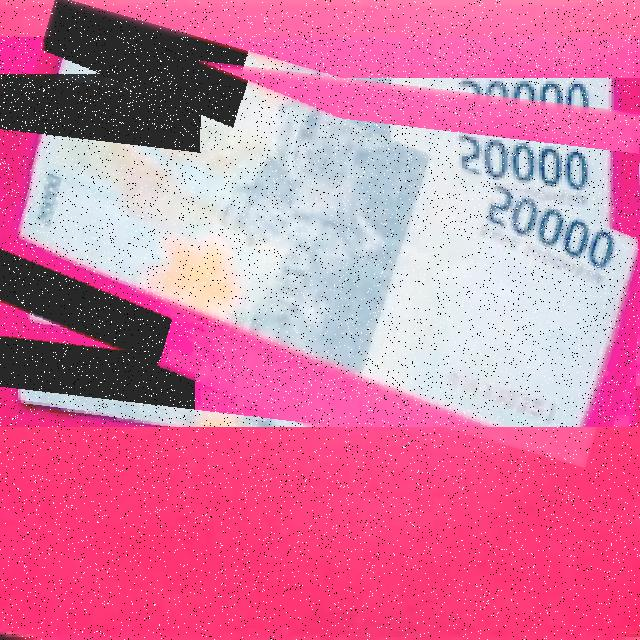dua ribu rupiah: (0, 37, 640, 427), (0, 74, 201, 129)
